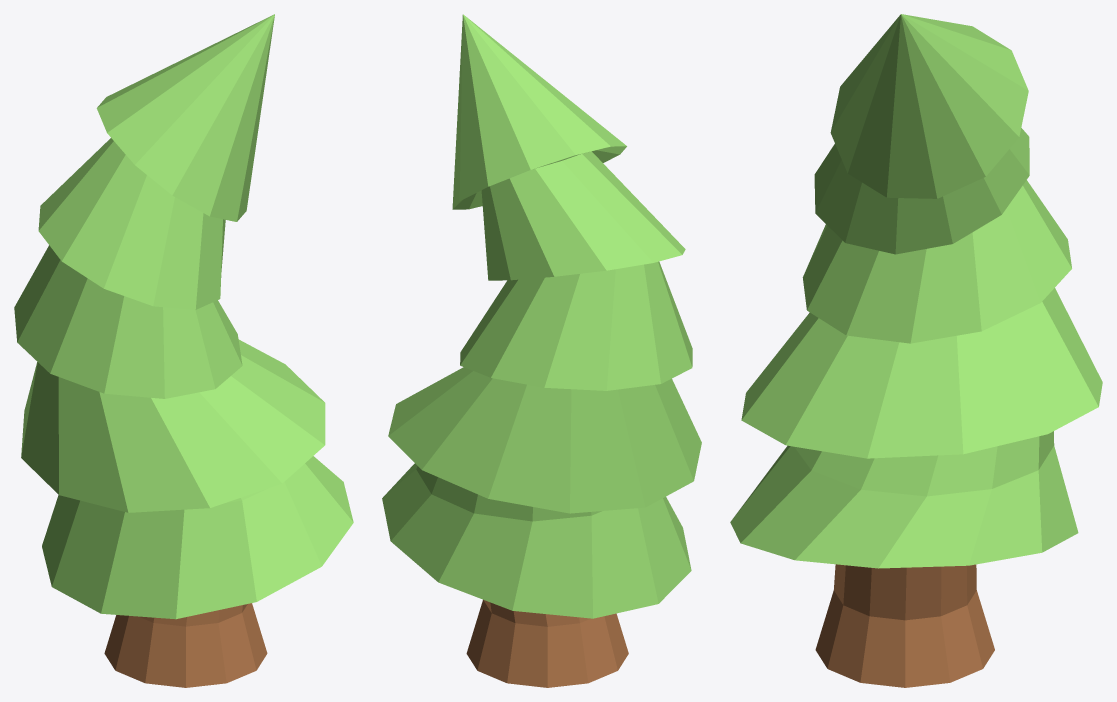
File: Tree1Rot.fbx
The picture shows the model from 3 angles, left to right: view 1: azimuth 30°, elevation 25°; view 2: azimuth 150°, elevation 25°; view 3: azimuth 270°, elevation 25°; orthographic projection. The views are drawn at different scales.
Parts seen in each view (by area): view 1: Tree1Rot; view 2: Tree1Rot; view 3: Tree1Rot.
Part boxes in pixels (box(x1,y1,x2,y2)): Tree1Rot: box(14, 14, 353, 687); Tree1Rot: box(382, 14, 701, 687); Tree1Rot: box(730, 14, 1102, 687).
Size of the model in its own units: 406 by 839 by 415.
